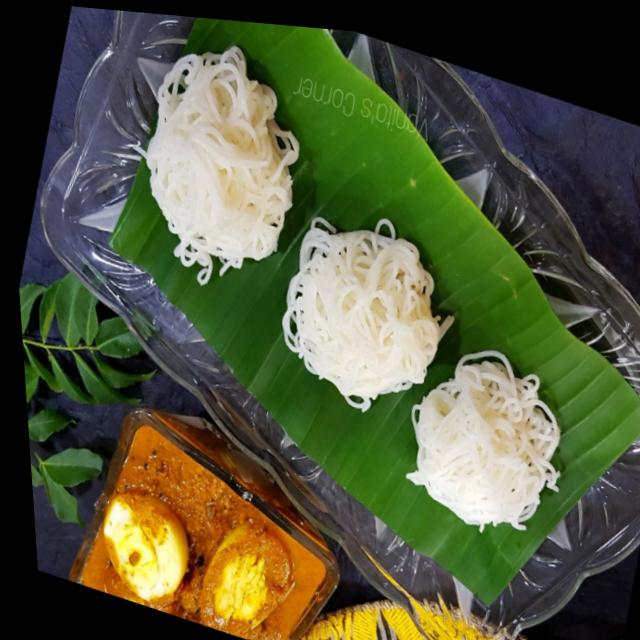EGG: (78, 418, 323, 640)
IDIYAPPAM: (146, 40, 300, 261), (282, 225, 441, 396), (414, 364, 568, 522)
